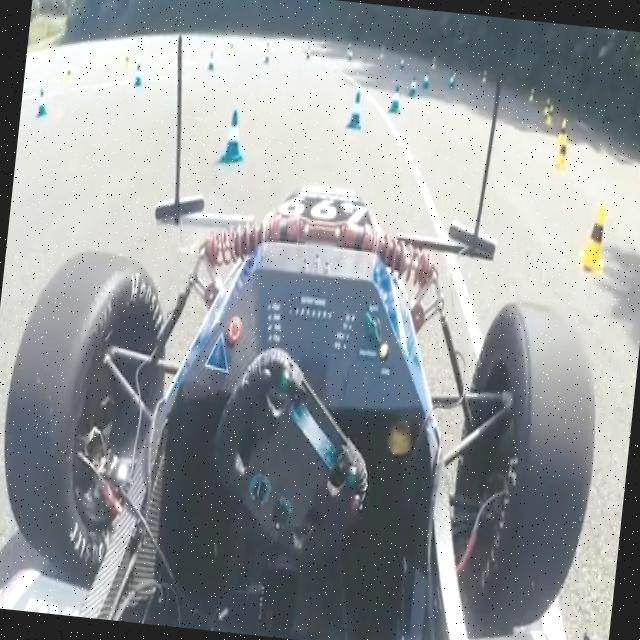blue_cone: (214, 102, 252, 170), (342, 86, 368, 136), (31, 81, 52, 122), (386, 78, 407, 119), (130, 62, 146, 93), (418, 67, 434, 94), (203, 47, 216, 74), (406, 72, 419, 99), (444, 70, 456, 92)
yellow_cone: (575, 197, 610, 286), (556, 116, 574, 146), (554, 141, 570, 174), (542, 99, 556, 133), (542, 94, 552, 118)
